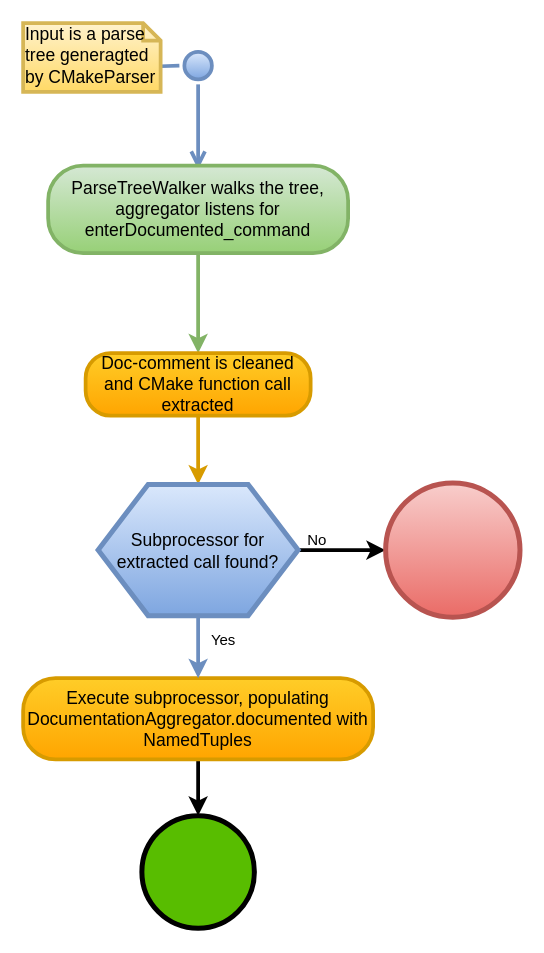
The diagram is 544 pixels wide and 953 high, and some of its shapes have lost their labels. The centre of each missing label's shape, as x and y in pixels:
"Raise NotImplemented" belongs at [452,549].
"Return documented" belongs at [197,871].
